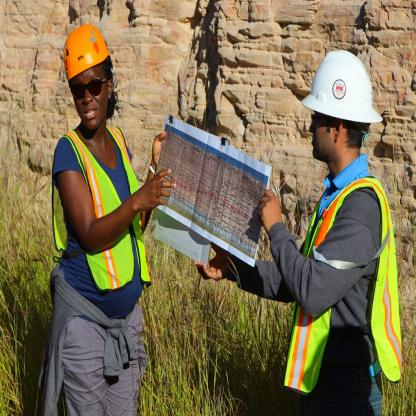Helmet: (300, 47, 384, 136), (63, 23, 112, 78)
